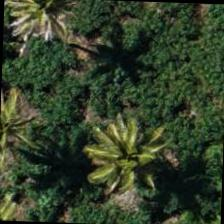Kelapa_Sawit: (76, 108, 169, 201)
